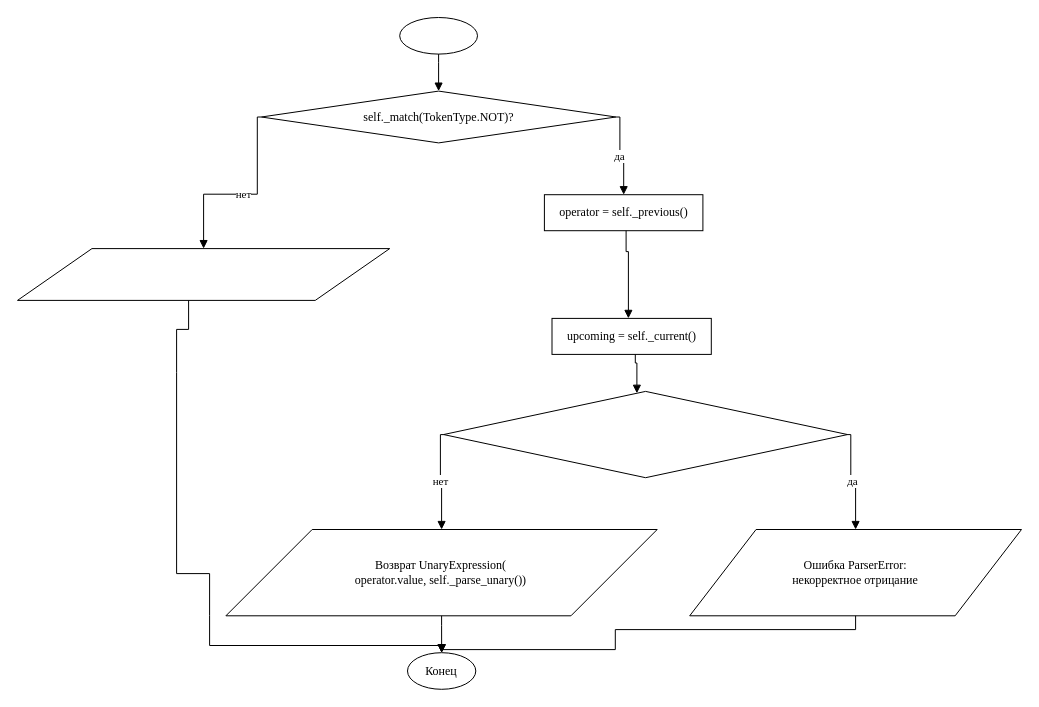
This 1039x707 diagram has some shape labels left out. The shapes that lost their labels are listed below. From the top down, each one's centre as x and y in pixels, then its label:
(x=438, y=35): Начало
(x=203, y=274): Возврат self._parse_primary()
(x=645, y=434): upcoming - бинарный оператор, ')' или EOF?
